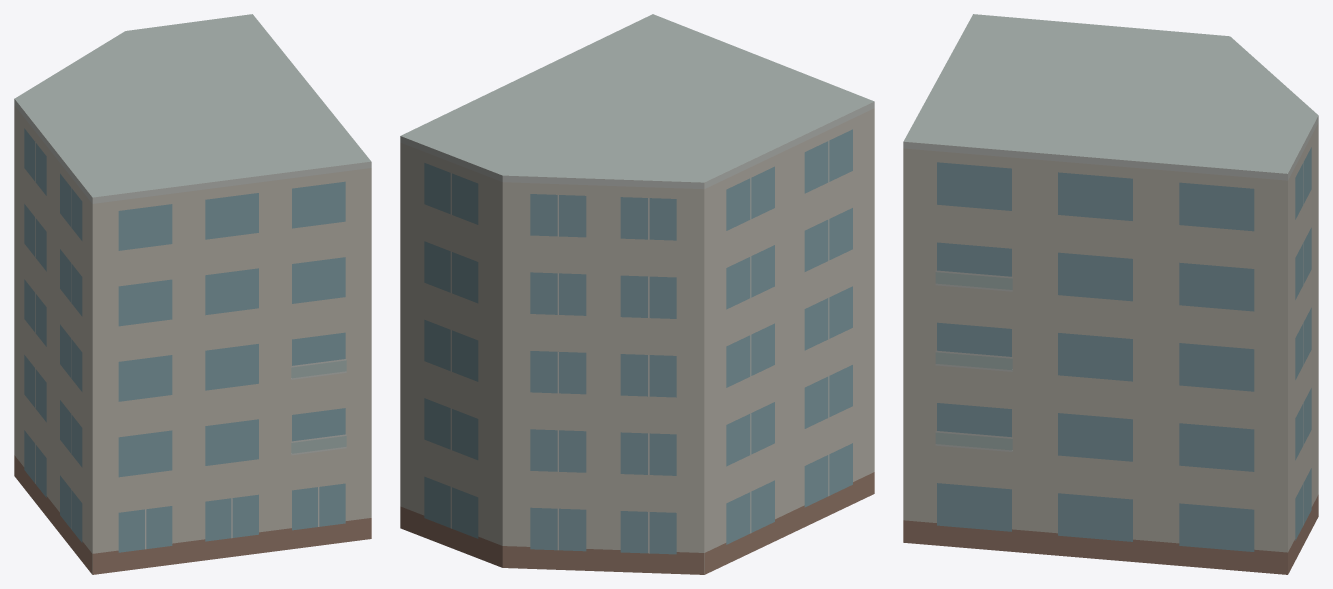
Rendered from survey-upis-32589788.glb.
3 views of the same model, side by side, from view 1: azimuth 30°, elevation 25°; view 2: azimuth 150°, elevation 25°; view 3: azimuth 270°, elevation 25° (orthographic). The views are drawn at different scales.
Visible parts, largest first — view 1: survey-upis-32589788.tmp; view 2: survey-upis-32589788.tmp; view 3: survey-upis-32589788.tmp.
Part boxes in pixels (x1,y1,x2,y2): survey-upis-32589788.tmp: (14,14,371,574); survey-upis-32589788.tmp: (400,14,874,574); survey-upis-32589788.tmp: (903,14,1318,574).
Bounding box in the file's own units: 12.36 × 14.45 × 13.57.
